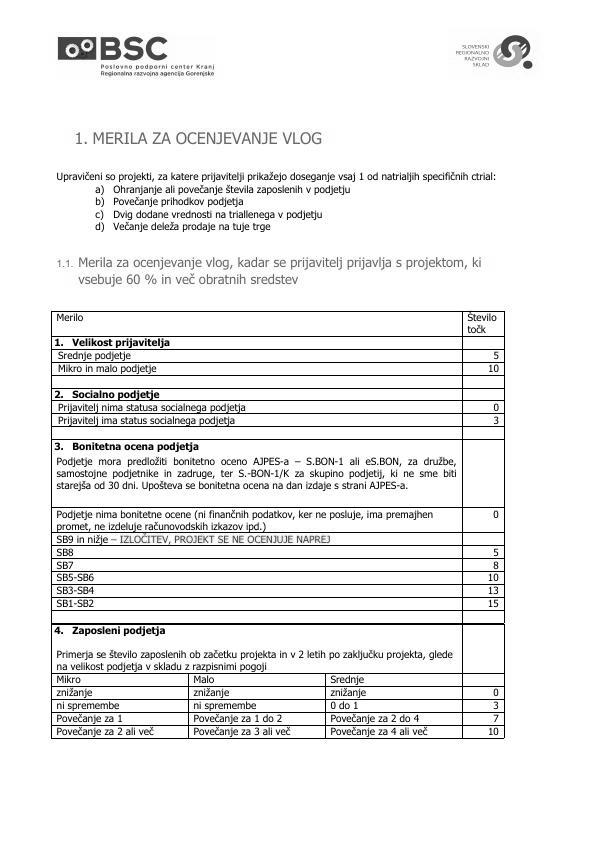table: (51, 309, 505, 740)
text: (52, 168, 499, 234), (53, 256, 488, 290), (75, 129, 324, 148)
